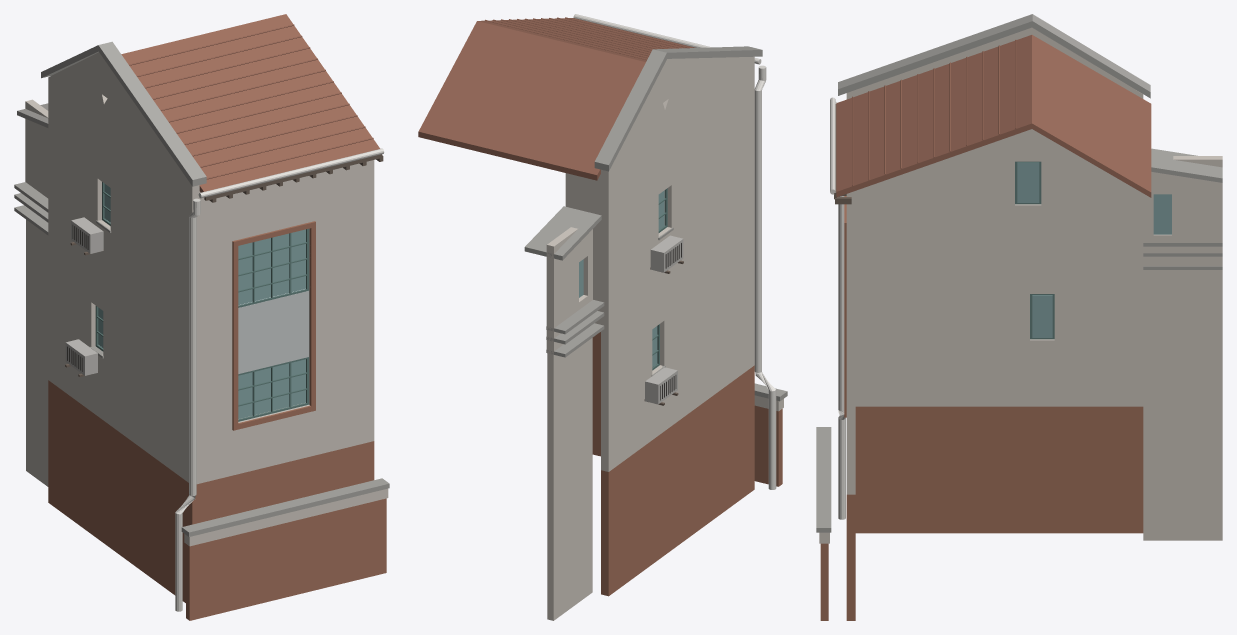
Rendered from full-source.glb.
3 renders of one model, left to right at view 1: azimuth 30°, elevation 25°; view 2: azimuth 150°, elevation 25°; view 3: azimuth 270°, elevation 25°, orthographic. The views are drawn at different scales.
Parts seen in each view (by area): view 1: 沪西别墅东侧临弄山墙与跨层钢窗; view 2: 沪西别墅东侧临弄山墙与跨层钢窗; view 3: 沪西别墅东侧临弄山墙与跨层钢窗.
Boxes of the visible parts, bbox=[...] form: 沪西别墅东侧临弄山墙与跨层钢窗: bbox=[14, 14, 389, 620]; 沪西别墅东侧临弄山墙与跨层钢窗: bbox=[418, 14, 787, 620]; 沪西别墅东侧临弄山墙与跨层钢窗: bbox=[816, 14, 1222, 620].
Bounding box in the file's own units: 5.14 × 11.98 × 8.59.
